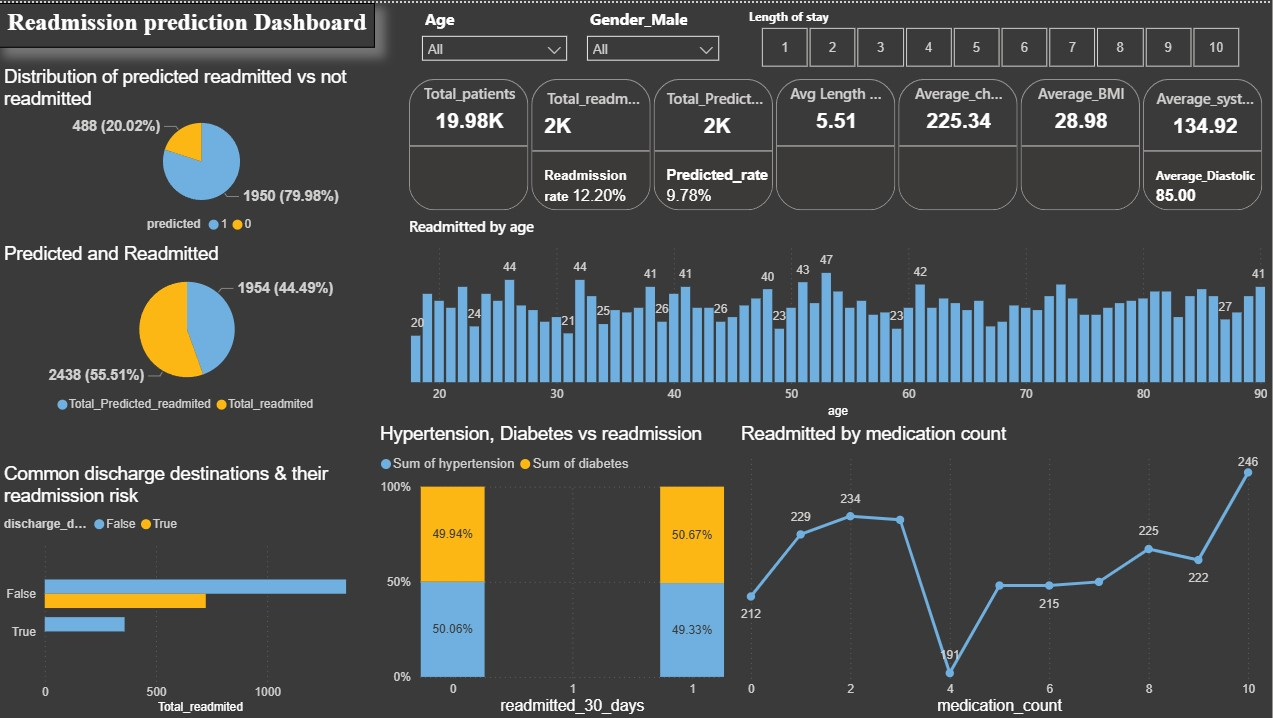

What the dashboard file says about the page in this screenshot:
{"tool":"powerbi","page":{"name":"Final","canvas":[1280,720],"ordinal":3},"visuals":[{"type":"cardVisual","fields":{"Data":["DAX.Total_patients","DAX.Total_readmited","DAX.Total_Predicted_readmited","DAX.Average_lengthofstay","DAX.Average_cholestrol","DAX.Average_BMI","DAX.Average_BpMAX"]},"box":[407.2,71.4,872.8,142.8],"z":0},{"type":"pieChart","title":"Distribution of predicted readmitted vs not readmitted","fields":{"Category":["final_readmission_dataset.predicted_readmitted","final_readmission_dataset.readmitted_30_days"],"Y":["Sum(final_readmission_dataset.readmitted_30_days)"]},"box":[0,63.3,407.2,178],"z":1},{"type":"slicer","fields":{"Values":["final_readmission_dataset.age"]},"box":[415.3,0,165.9,71.4],"z":2},{"type":"slicer","fields":{"Values":["final_readmission_dataset.gender_Male"]},"box":[581.2,0,152.8,71.4],"z":3},{"type":"clusteredColumnChart","title":"Readmitted by age","fields":{"Category":["final_readmission_dataset.age"],"Y":["Sum(final_readmission_dataset.readmitted_30_days)"]},"box":[407.2,214.2,872.8,208.1],"z":4},{"type":"lineChart","title":"Readmitted by medication count","fields":{"Category":["final_readmission_dataset.medication_count"],"Y":["Sum(final_readmission_dataset.readmitted_30_days)"]},"box":[741.1,422.3,529.9,297.6],"z":5},{"type":"hundredPercentStackedColumnChart","title":"Hypertension, Diabetes vs readmission","fields":{"Category":["final_readmission_dataset.readmitted_30_days"],"Y":["Sum(final_readmission_dataset.hypertension)","Sum(final_readmission_dataset.diabetes)"]},"box":[378.1,422.3,355.9,297.6],"z":6},{"type":"clusteredBarChart","title":"Common discharge destinations & their readmission risk","fields":{"Category":["final_readmission_dataset.discharge_destination_Nursing_Facility"],"Series":["final_readmission_dataset.discharge_destination_Rehab"],"Y":["DAX.Total_readmited"]},"box":[0,462.5,378.1,257.4],"z":8},{"type":"slicer","fields":{"Values":["final_readmission_dataset.length_of_stay"]},"box":[741.1,0,529.9,71.4],"z":9},{"type":"textbox","box":[0,0,378.1,45.2],"z":10},{"type":"pieChart","title":"Predicted and Readmitted","fields":{"Y":["DAX.Total_Predicted_readmited","DAX.Total_readmited"]},"box":[0,241.3,378.1,181],"z":11}]}

Visuals, with their boxes in screenshot pixels (x1, y1, x2, y2), scaled from the page's 1280x720 canvas onto the 1273x718 screenshot:
cardVisual - DAX.Total_patients x DAX.Total_readmited: bbox=[405, 71, 1272, 214]
"Distribution of predicted readmitted vs not readmitted" pieChart: bbox=[0, 63, 405, 241]
slicer - final_readmission_dataset.age: bbox=[413, 0, 578, 71]
slicer - final_readmission_dataset.gender_Male: bbox=[578, 0, 730, 71]
"Readmitted by age" clusteredColumnChart: bbox=[405, 214, 1272, 421]
"Readmitted by medication count" lineChart: bbox=[737, 421, 1264, 717]
"Hypertension, Diabetes vs readmission" hundredPercentStackedColumnChart: bbox=[376, 421, 730, 717]
"Common discharge destinations & their readmission risk" clusteredBarChart: bbox=[0, 461, 376, 717]
slicer - final_readmission_dataset.length_of_stay: bbox=[737, 0, 1264, 71]
textbox: bbox=[0, 0, 376, 45]
"Predicted and Readmitted" pieChart: bbox=[0, 241, 376, 421]
